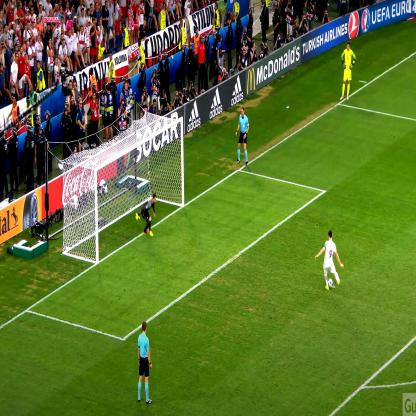penalty kick: (45, 118, 404, 297)
